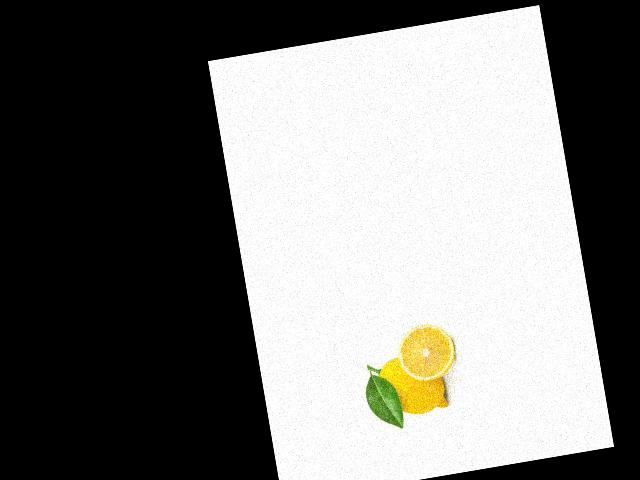lemon: (367, 346, 457, 423)
